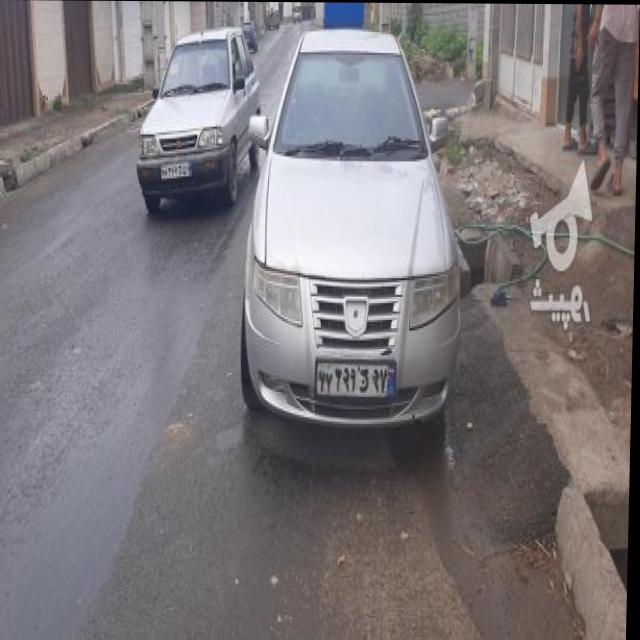licence: (316, 348, 402, 396), (162, 157, 192, 179)
